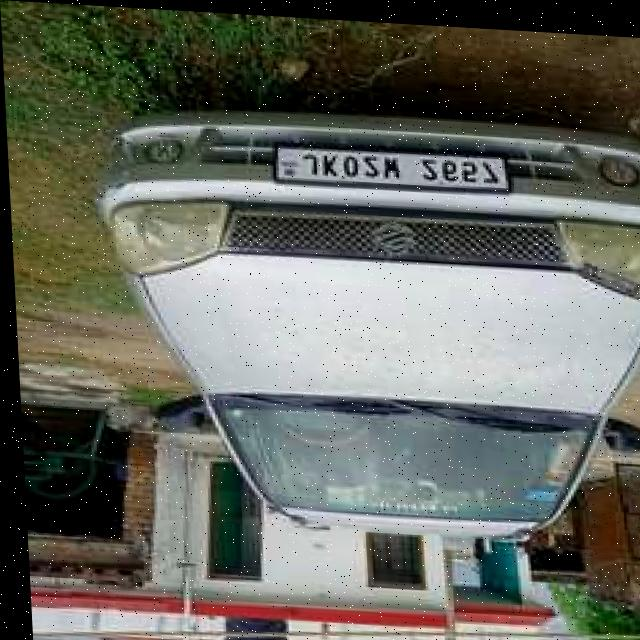plate: (268, 138, 507, 191)
